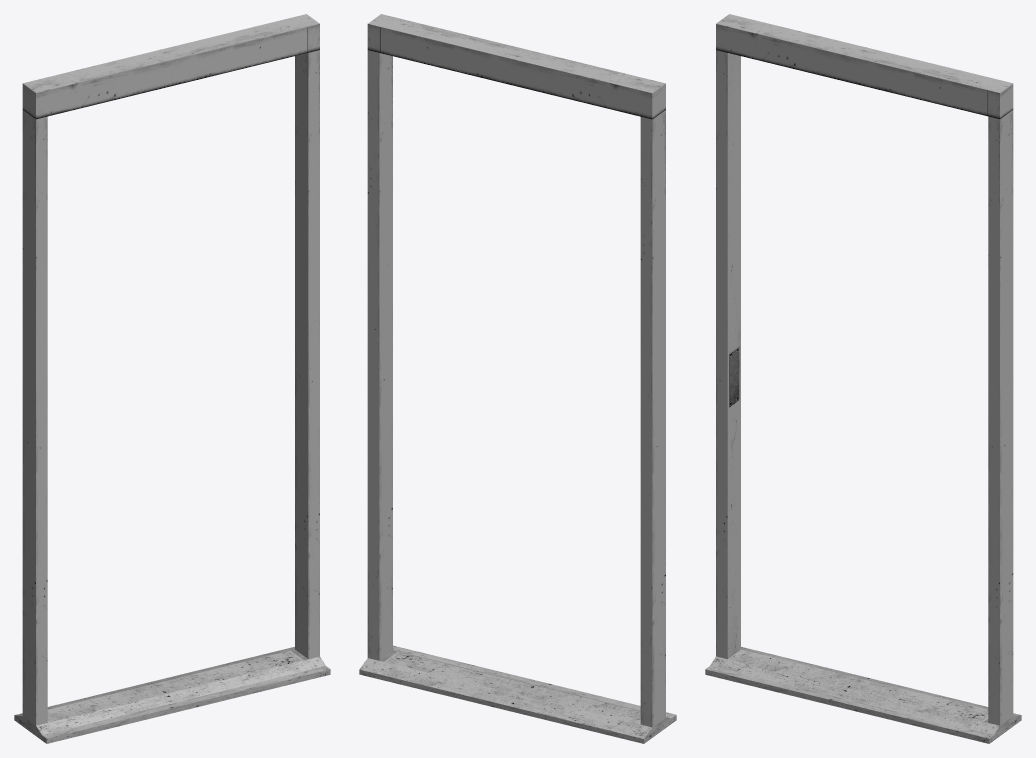
The model's file is glass_door_frame.fbx.
3 views of the same model, side by side, from view 1: azimuth 30°, elevation 25°; view 2: azimuth 150°, elevation 25°; view 3: azimuth 330°, elevation 25° (orthographic).
Parts seen in each view (by area): view 1: apartment_door_frame:glass_door_frame; view 2: apartment_door_frame:glass_door_frame; view 3: apartment_door_frame:glass_door_frame.
Part boxes in pixels (x1=…): apartment_door_frame:glass_door_frame: x1=14, y1=14, x2=330, y2=743; apartment_door_frame:glass_door_frame: x1=359, y1=14, x2=676, y2=743; apartment_door_frame:glass_door_frame: x1=705, y1=14, x2=1021, y2=743.
Size of the model in its own units: 0.9803 by 2.12 by 0.1949.
